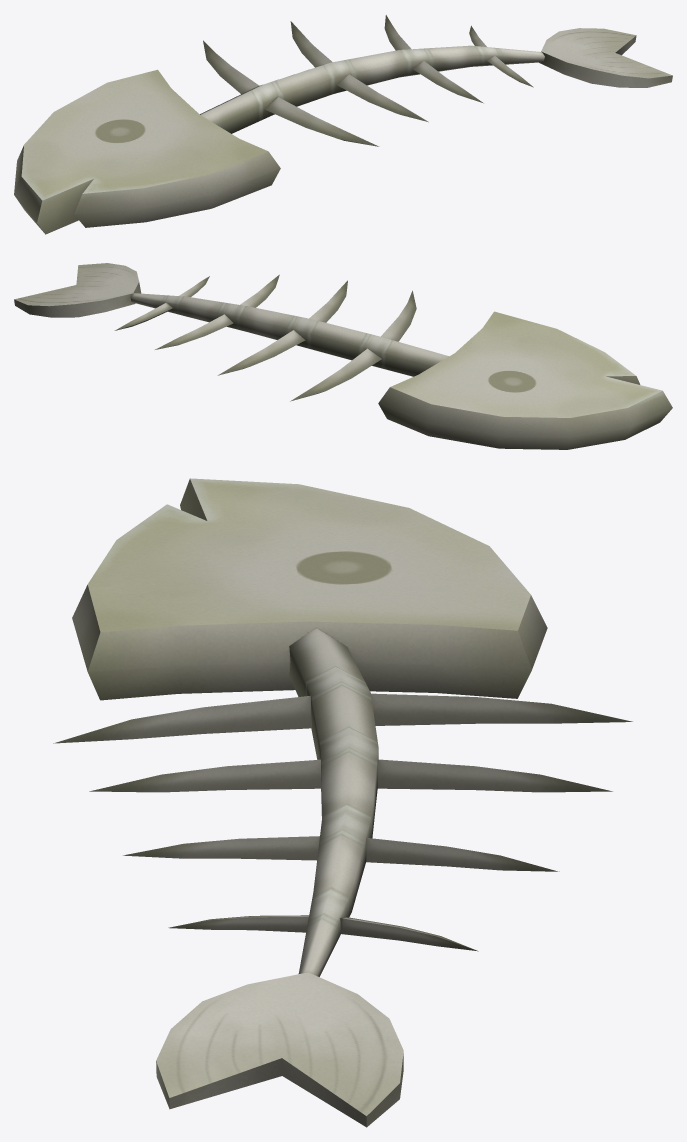
Rendered from fishBone.FBX.
3 views of the same model, one above another, from view 1: azimuth 30°, elevation 25°; view 2: azimuth 150°, elevation 25°; view 3: azimuth 270°, elevation 25° (orthographic). The views are drawn at different scales.
Parts seen in each view (by area): view 1: fishBone; view 2: fishBone; view 3: fishBone.
Boxes of the visible parts, x1,y1,x2,y2 form: fishBone: (14,15,672,234); fishBone: (14,263,672,449); fishBone: (53,478,632,1127).
Size of the model in its own units: 86.86 by 7.8 by 35.69.
